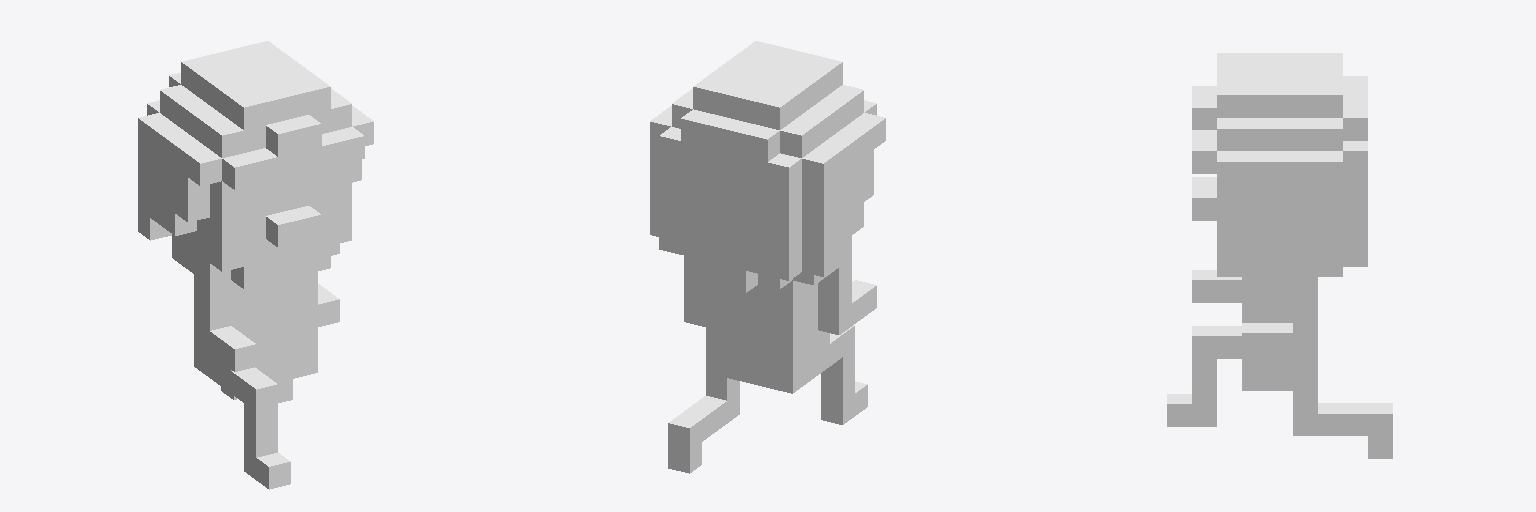
File: Runner-02.obj
3 views of the same model, side by side, from view 1: azimuth 30°, elevation 25°; view 2: azimuth 150°, elevation 25°; view 3: azimuth 270°, elevation 25° (orthographic).
Size of the model in its own units: 8 by 16 by 9.